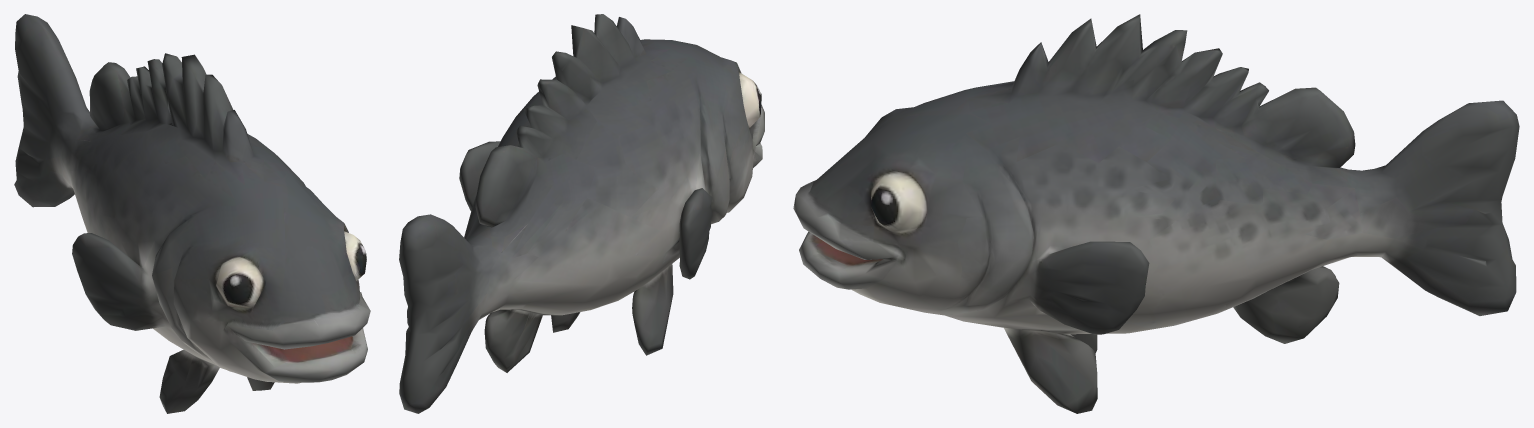
The model's file is fish-sea-bass.glb.
3 renders of one model, left to right at view 1: azimuth 30°, elevation 25°; view 2: azimuth 150°, elevation 25°; view 3: azimuth 270°, elevation 25°, orthographic. The views are drawn at different scales.
Parts seen in each view (by area): view 1: tripo_node_07f73bde-0d28-443b-a644-ee41f1004696; view 2: tripo_node_07f73bde-0d28-443b-a644-ee41f1004696; view 3: tripo_node_07f73bde-0d28-443b-a644-ee41f1004696.
Boxes of the visible parts, x1,y1,x2,y2 form: tripo_node_07f73bde-0d28-443b-a644-ee41f1004696: (14, 14, 370, 413); tripo_node_07f73bde-0d28-443b-a644-ee41f1004696: (399, 14, 764, 413); tripo_node_07f73bde-0d28-443b-a644-ee41f1004696: (793, 14, 1519, 413).
Size of the model in its own units: 0.4082 by 0.5599 by 1.
Materials: 1 (1 with a texture image).
